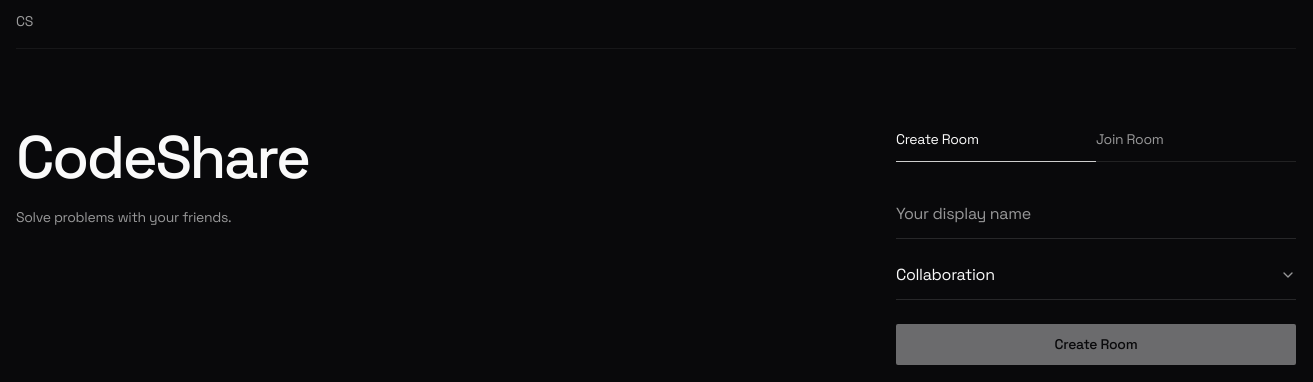
Scenario: HomePage tabs › switches to Join tab and shows room code input
Click the tab with test id "tab-join": (1196, 146) [1096, 129, 1296, 162]
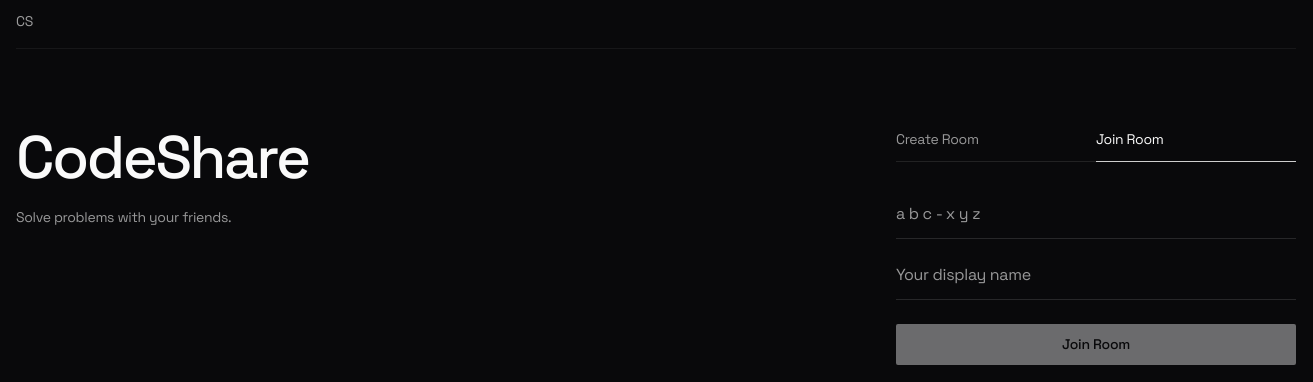
expect the field with test id "room-code-input" is shown: met, box [896, 202, 1296, 239]
expect the button with test id "join-room-button" is shown: met, box [896, 324, 1296, 365]
